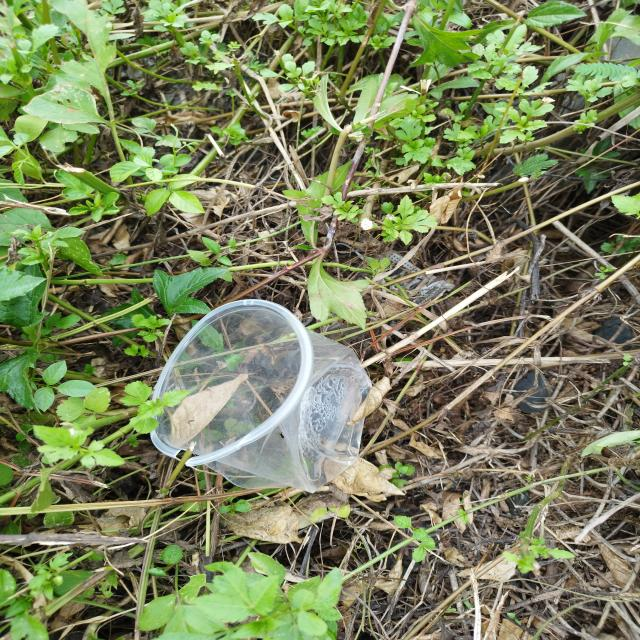plastic glass: (150, 298, 372, 492)
